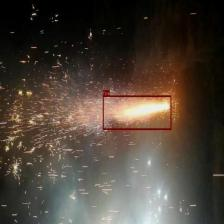fire: (103, 95, 172, 130)
